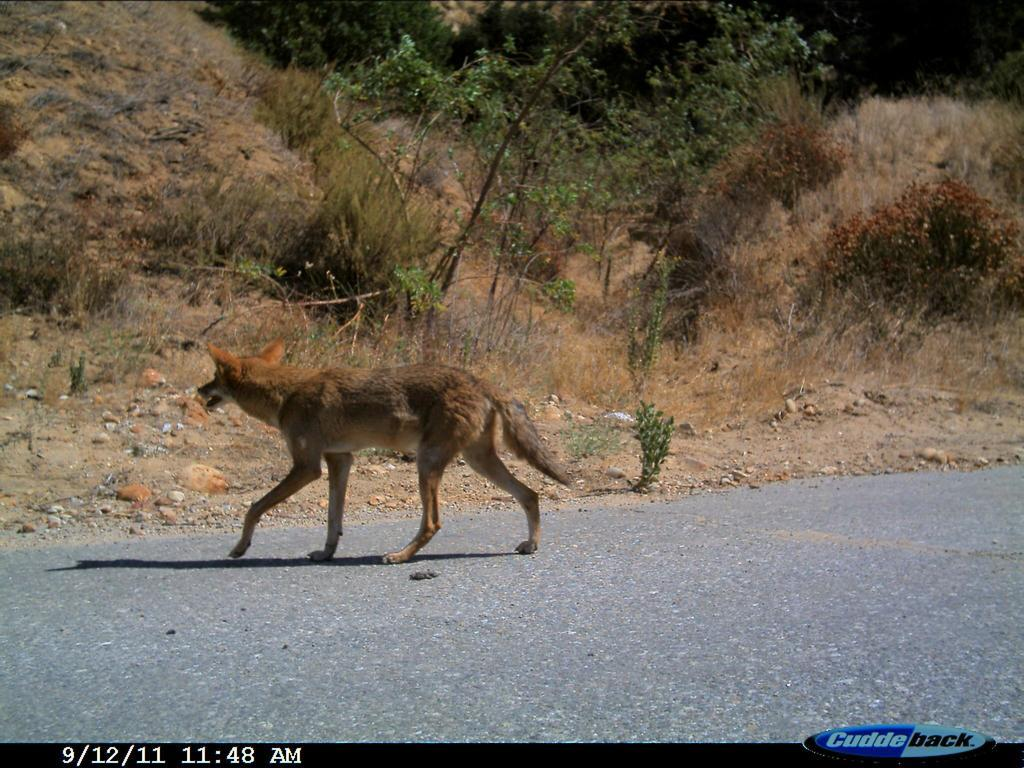coyote: (186, 328, 593, 568)
